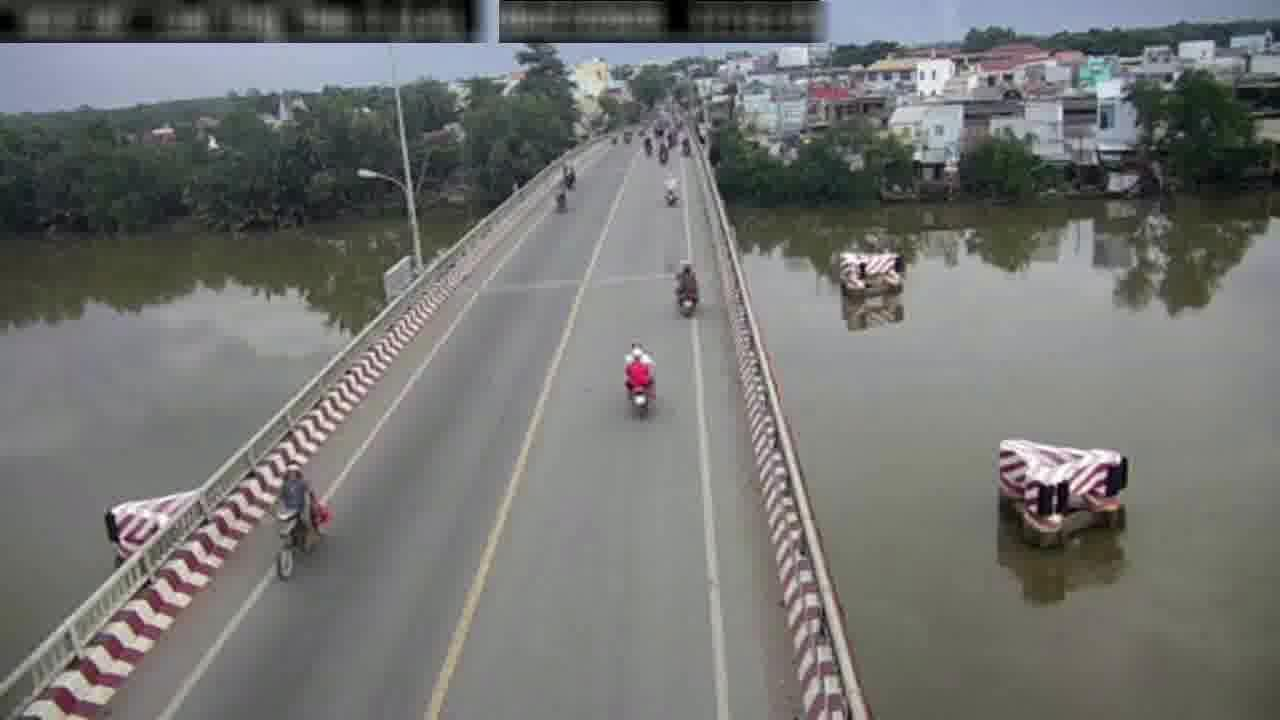motorbike: (267, 451, 326, 583), (621, 336, 656, 420), (672, 257, 702, 320), (661, 170, 681, 207)
